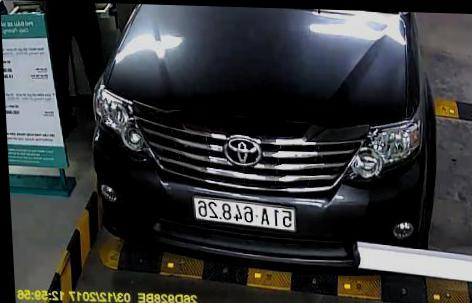License_Plate: (189, 197, 299, 236)
